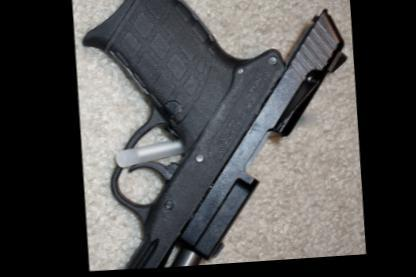pistol: (81, 0, 363, 271)
